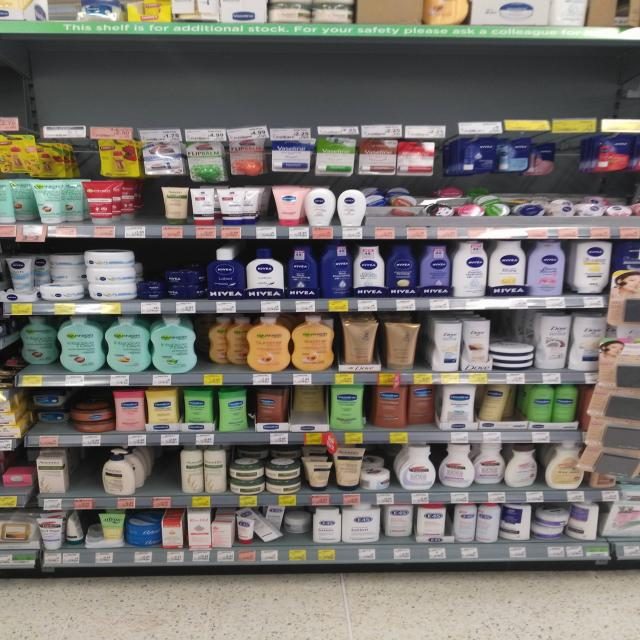empty: (133, 445, 183, 498), (114, 182, 162, 226), (65, 449, 104, 499)
